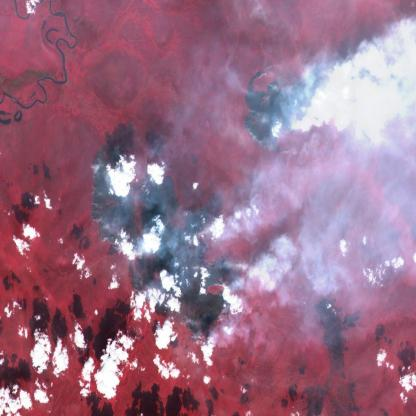fire: (87, 136, 239, 349), (244, 56, 322, 160)
